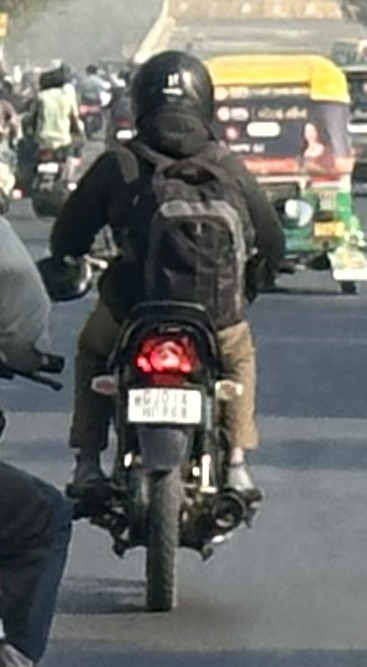BikeWithRider: (27, 42, 297, 620)
Helmet: (121, 42, 225, 161)
